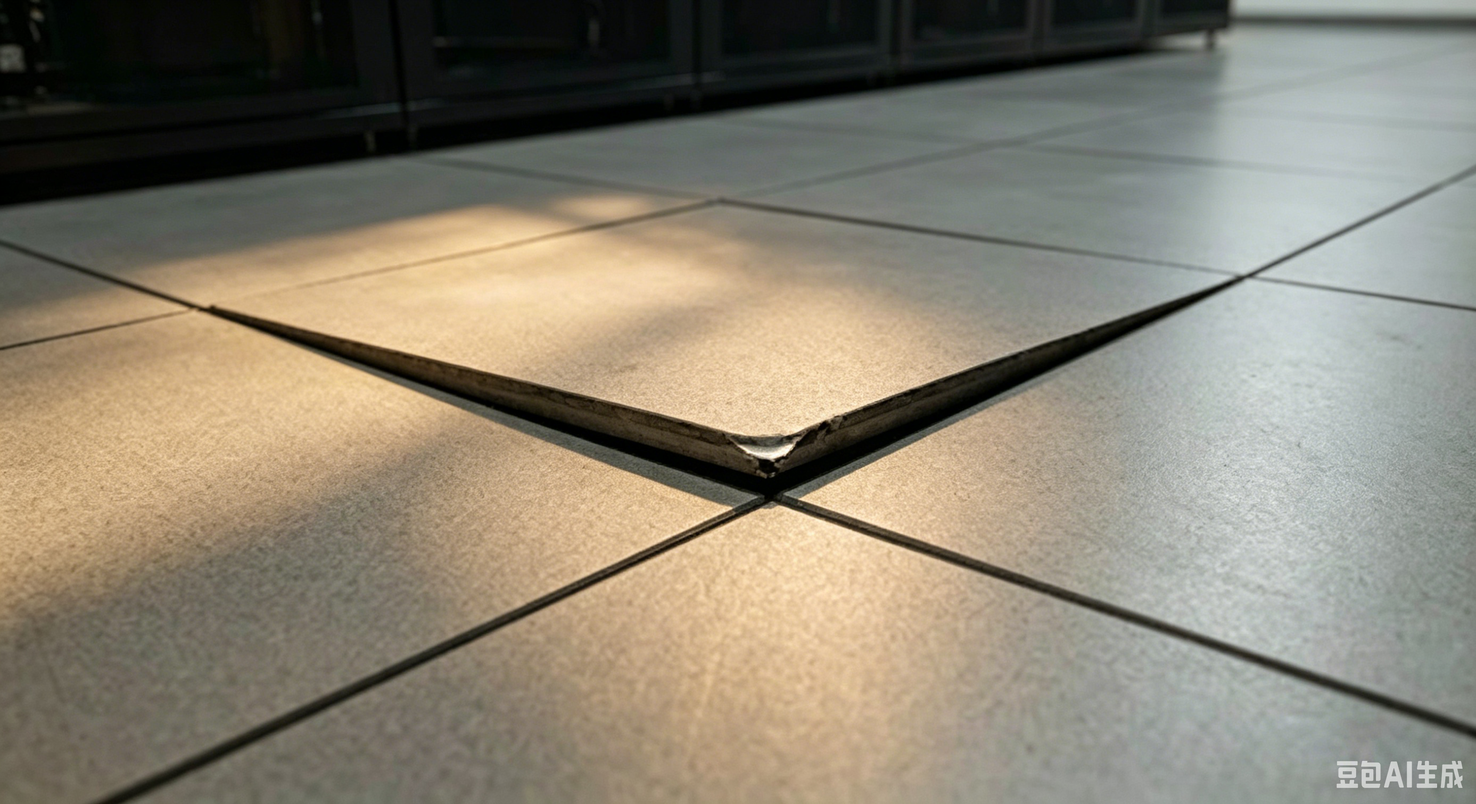floor_defect: (211, 299, 786, 505), (784, 361, 1034, 504), (990, 278, 1248, 385)
